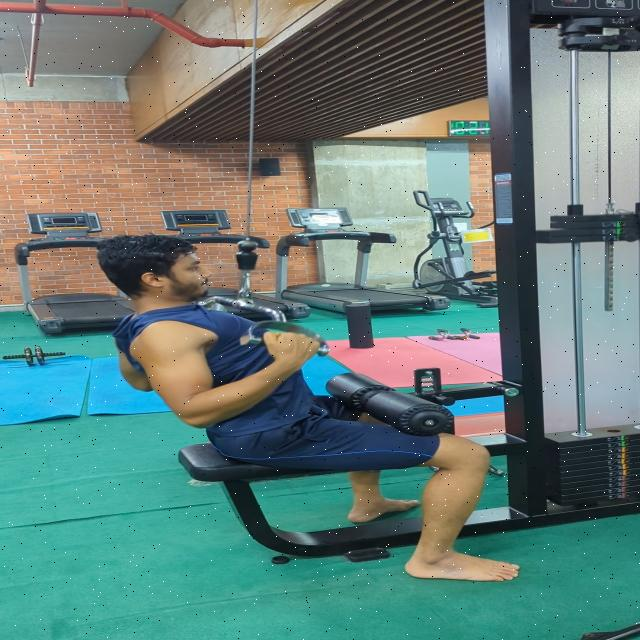Normal_LatPulldown: (74, 202, 563, 592)
